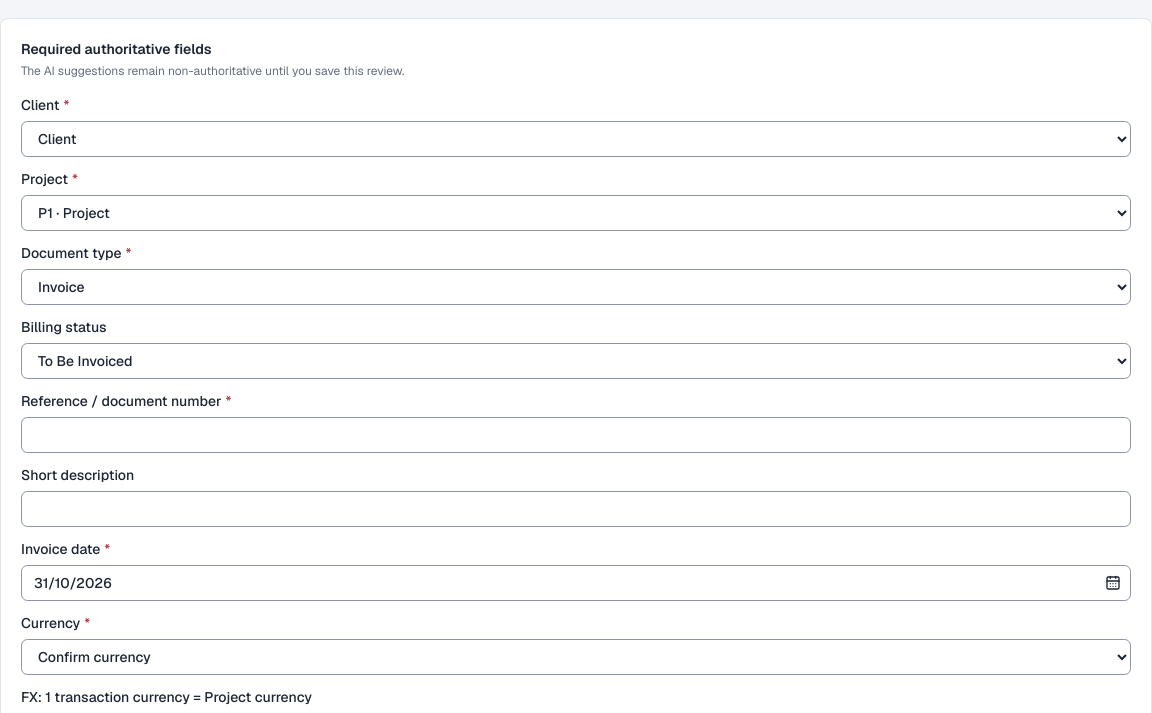
has one payment due input, owned by the default term, and context-labelled document dates
This screenshot has width=1152, height=713.
(page scrolled)
Select "To Be Invoiced" in the dropdown labelled "Billing status" at (576, 360), box [21, 342, 1131, 378]
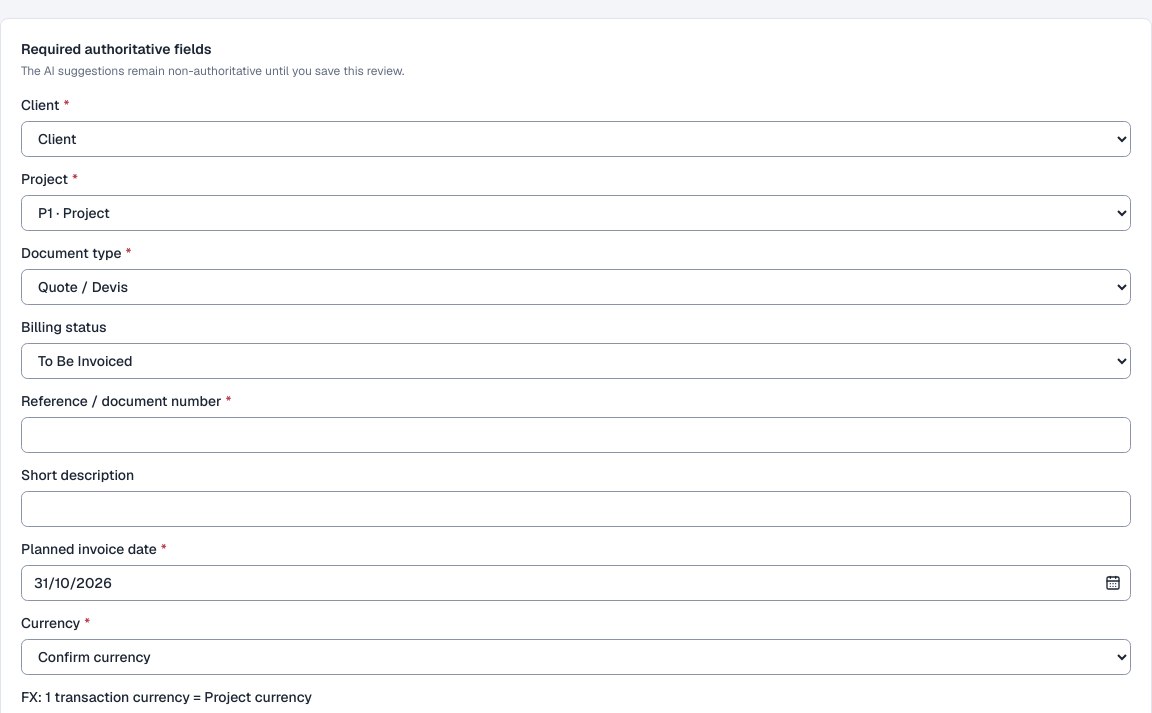
Result: the text "Planned invoice date" is shown at [21, 540, 157, 558]
Select "Quote / Devis" in the dropdown labelled "Document type*" at (576, 286), box [21, 268, 1131, 304]
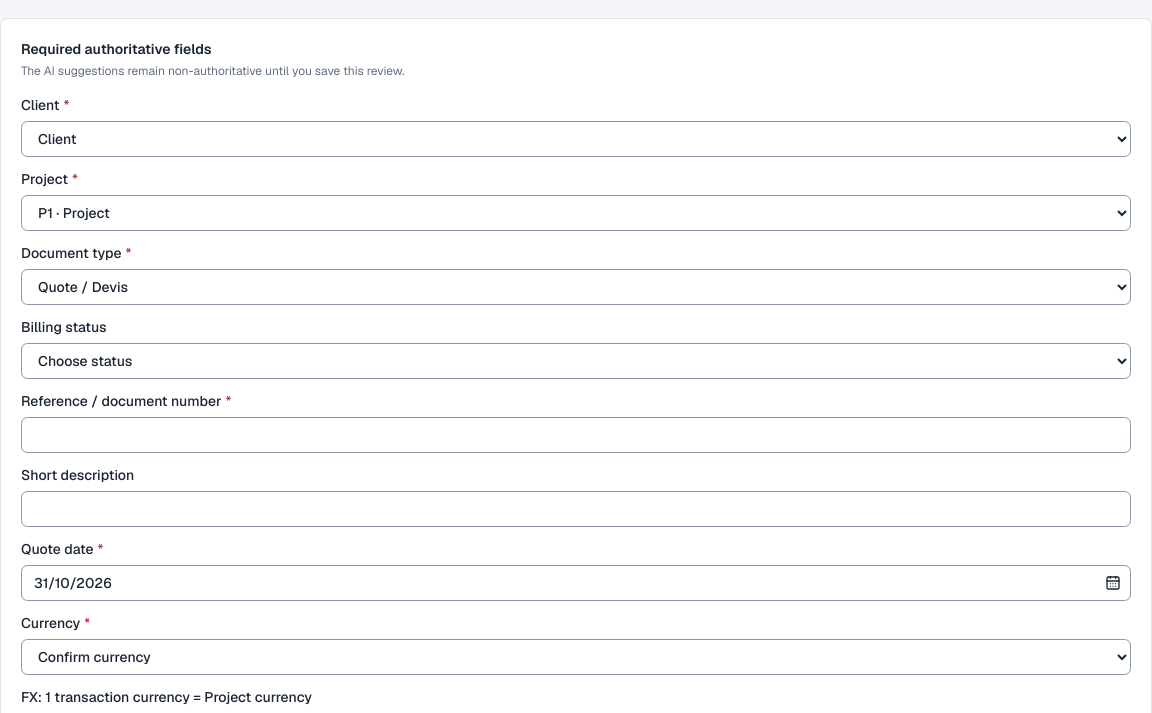
Result: the text "Quote date" is shown at [21, 540, 94, 558]
Result: the text "Planned invoice date" is gone
